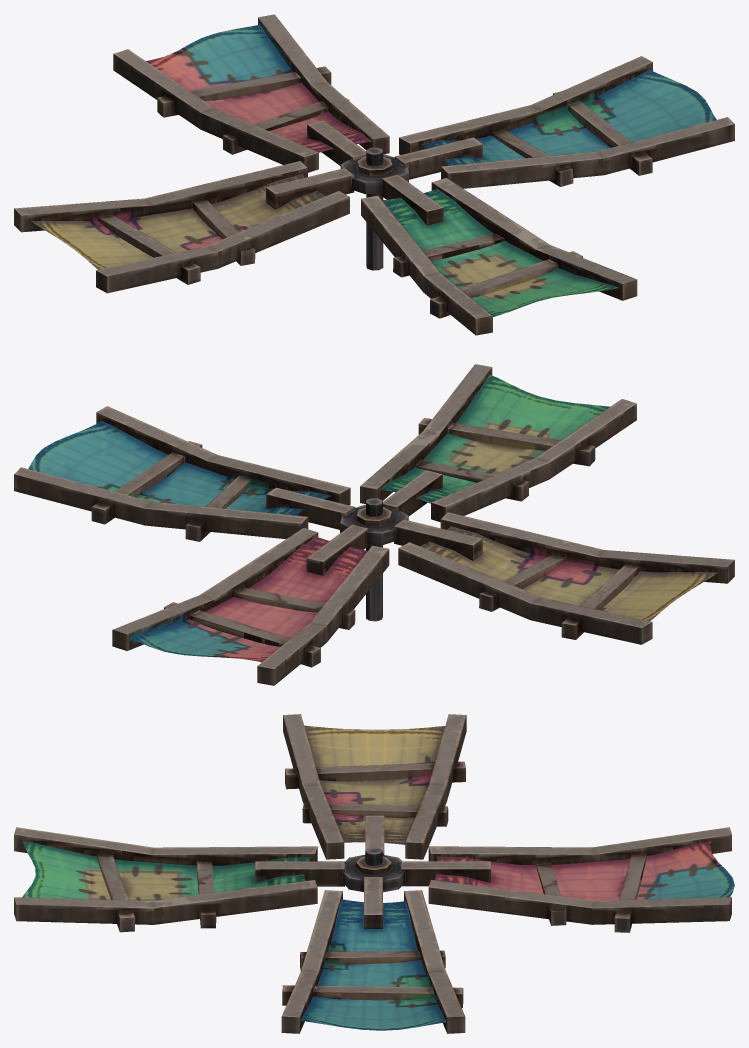
The model's file is Windmill.dae.
3 renders of one model, top to bottom at view 1: azimuth 30°, elevation 25°; view 2: azimuth 150°, elevation 25°; view 3: azimuth 270°, elevation 25°, orthographic.
Parts seen in each view (by area): view 1: Cylinder_001; view 2: Cylinder_001; view 3: Cylinder_001.
Part boxes in pixels (x1,y1,x2,y2): Cylinder_001: (14, 14, 734, 335); Cylinder_001: (14, 364, 734, 685); Cylinder_001: (14, 714, 734, 1033).
Bounding box in the file's own units: 8.78 × 8.66 × 1.51.
Materials: 1 (1 with a texture image).
